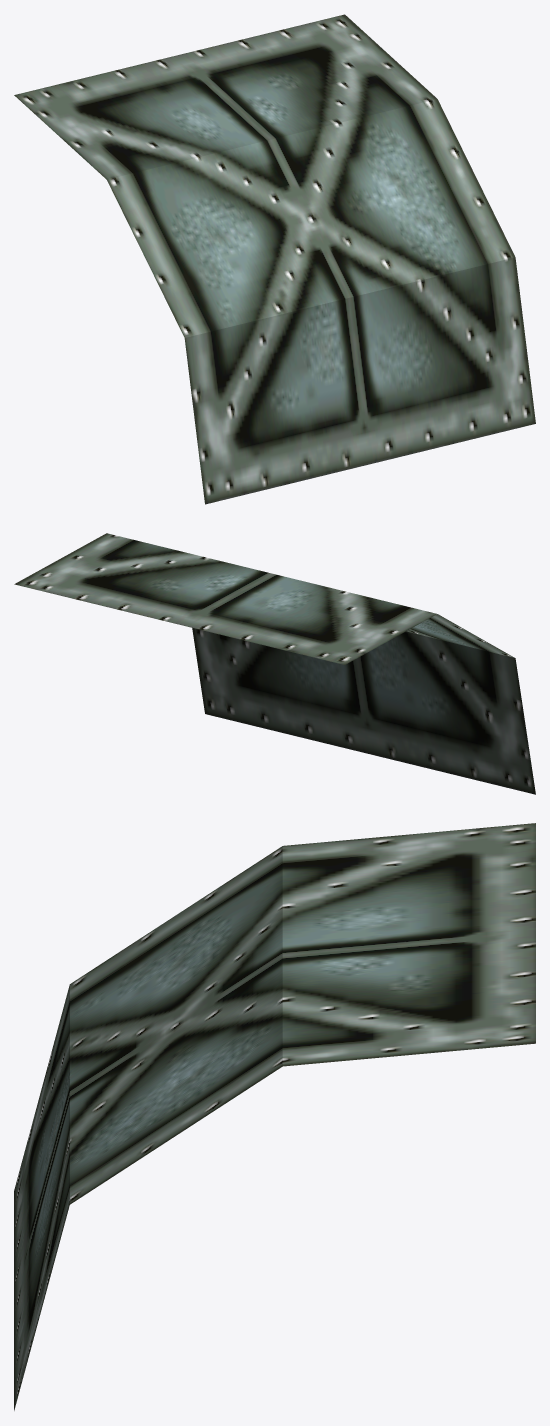
File: Dach_Halbtonne_759.glb
The picture shows the model from 3 angles, top to bottom: view 1: azimuth 30°, elevation 25°; view 2: azimuth 150°, elevation 25°; view 3: azimuth 270°, elevation 25°; orthographic projection. The views are drawn at different scales.
Parts seen in each view (by area): view 1: polySurfaceShape1072; view 2: polySurfaceShape1072; view 3: polySurfaceShape1072.
Boxes of the visible parts, left/top/right/bottom form: polySurfaceShape1072: left=14, top=14, right=535, bottom=504; polySurfaceShape1072: left=14, top=533, right=535, bottom=794; polySurfaceShape1072: left=14, top=823, right=535, bottom=1410.
Bounding box in the file's own units: 0.5 × 0.3891 × 0.5.
1 material, 1 textured.
